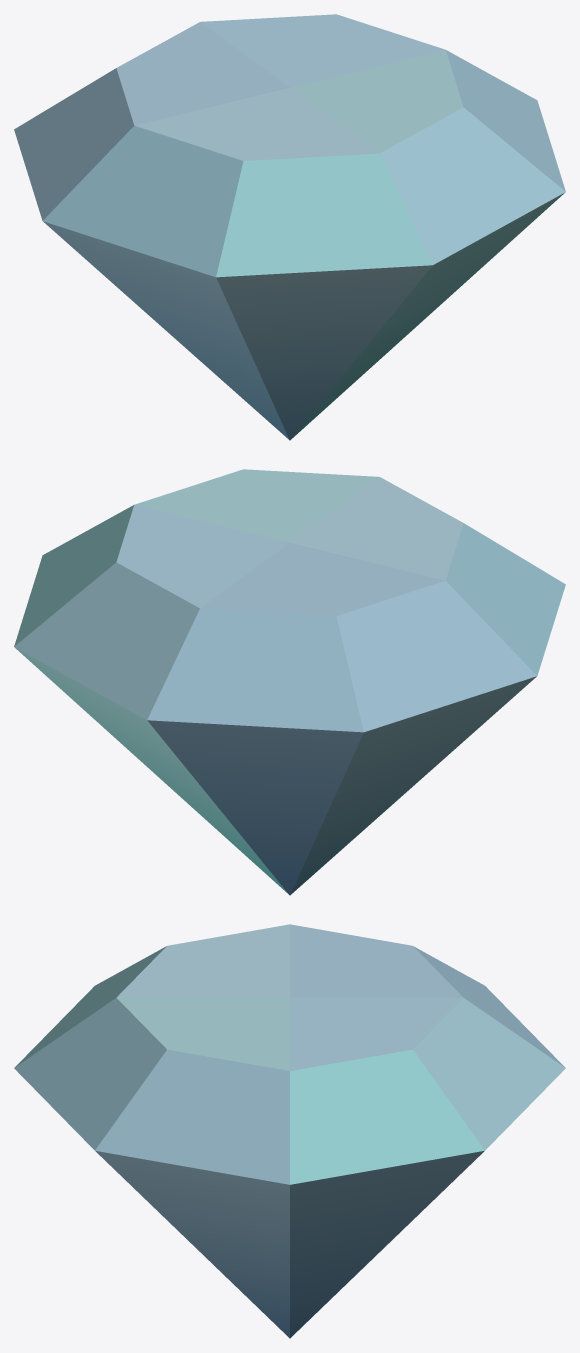
The model's file is geology-crystals-diamond_v4.fbx.
The picture shows the model from 3 angles, top to bottom: view 1: azimuth 30°, elevation 25°; view 2: azimuth 150°, elevation 25°; view 3: azimuth 270°, elevation 25°; orthographic projection. The views are drawn at different scales.
Parts seen in each view (by area): view 1: Diamond_v4; view 2: Diamond_v4; view 3: Diamond_v4.
Boxes of the visible parts, left/top/right/bottom form: Diamond_v4: left=14, top=14, right=565, bottom=440; Diamond_v4: left=14, top=469, right=565, bottom=895; Diamond_v4: left=14, top=924, right=565, bottom=1338.
Size of the model in its own units: 0.6694 by 0.4563 by 0.6694.
